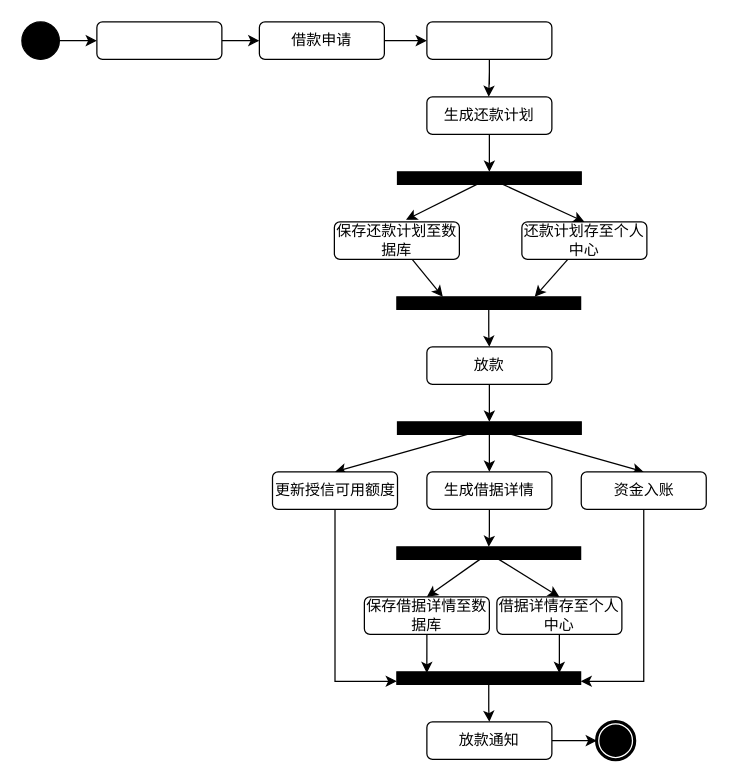
This 729x781 diagram has some shape labels left out. The centre of each missing label's shape, as x and y in pixels:
"借款试算" belongs at (x=489, y=40).
"签订合同" belongs at (x=159, y=40).
